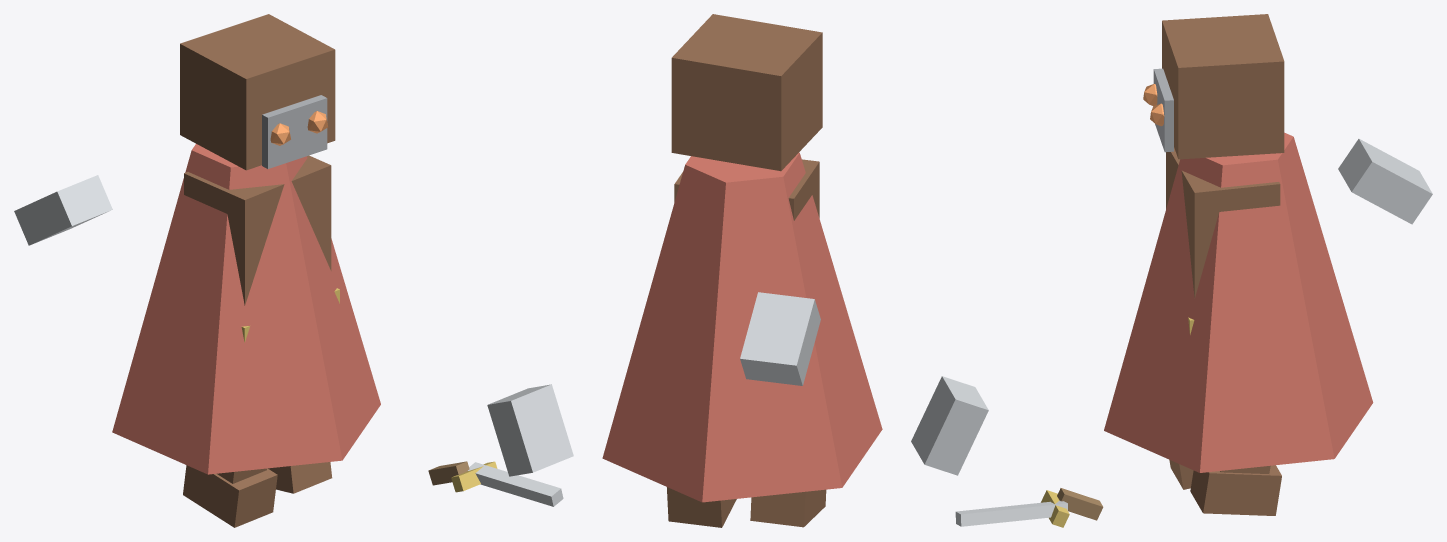
The model's file is npcpose_raider_attack_07.glb.
The picture shows the model from 3 angles, left to right: view 1: azimuth 30°, elevation 25°; view 2: azimuth 150°, elevation 25°; view 3: azimuth 270°, elevation 25°; orthographic projection. The views are drawn at different scales.
Visible parts, largest first — view 1: npcpose; view 2: npcpose; view 3: npcpose.
Part boxes in pixels (x1,y1,x2,y2): npcpose: (14,14,573,527); npcpose: (602,14,882,527); npcpose: (911,14,1432,527).
Bounding box in the file's own units: 1.18 × 1.58 × 1.65.
